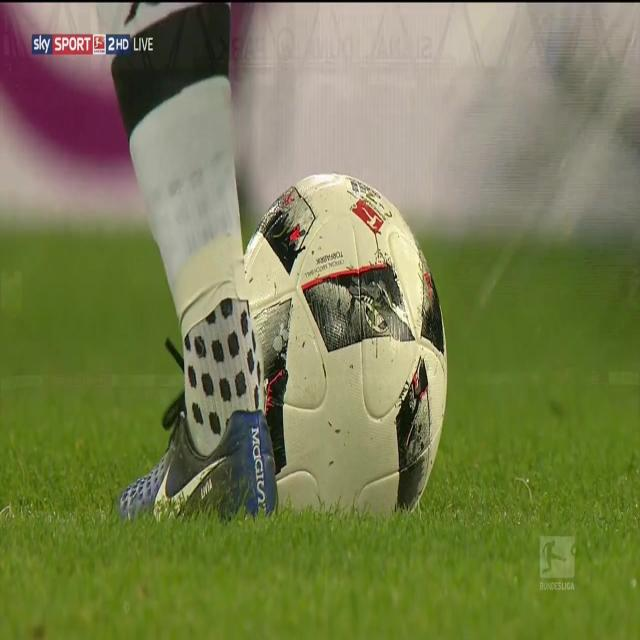Ball: (240, 164, 453, 516)
